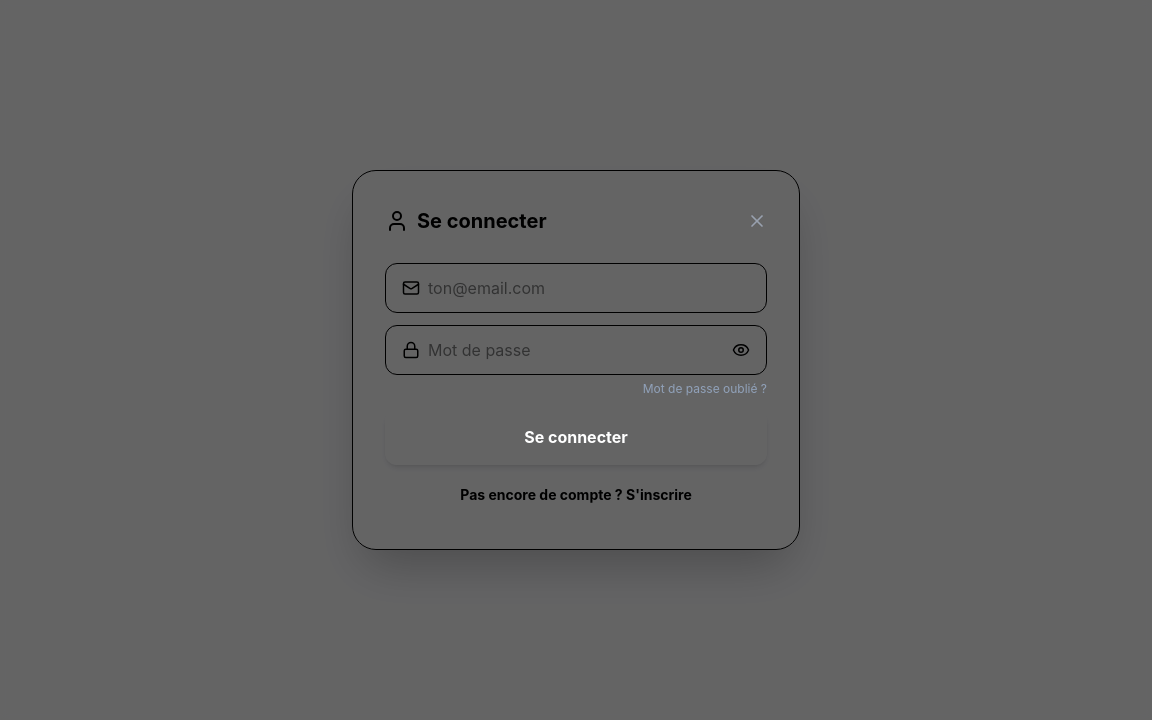
Test: AuthModal — bascule entre les modes › re-cliquer "Déjà un compte ? Se connecter" repasse en mode signin
Click the button "Pas encore de compte ? S'inscrire" at [576, 495], box [385,473,767,517]
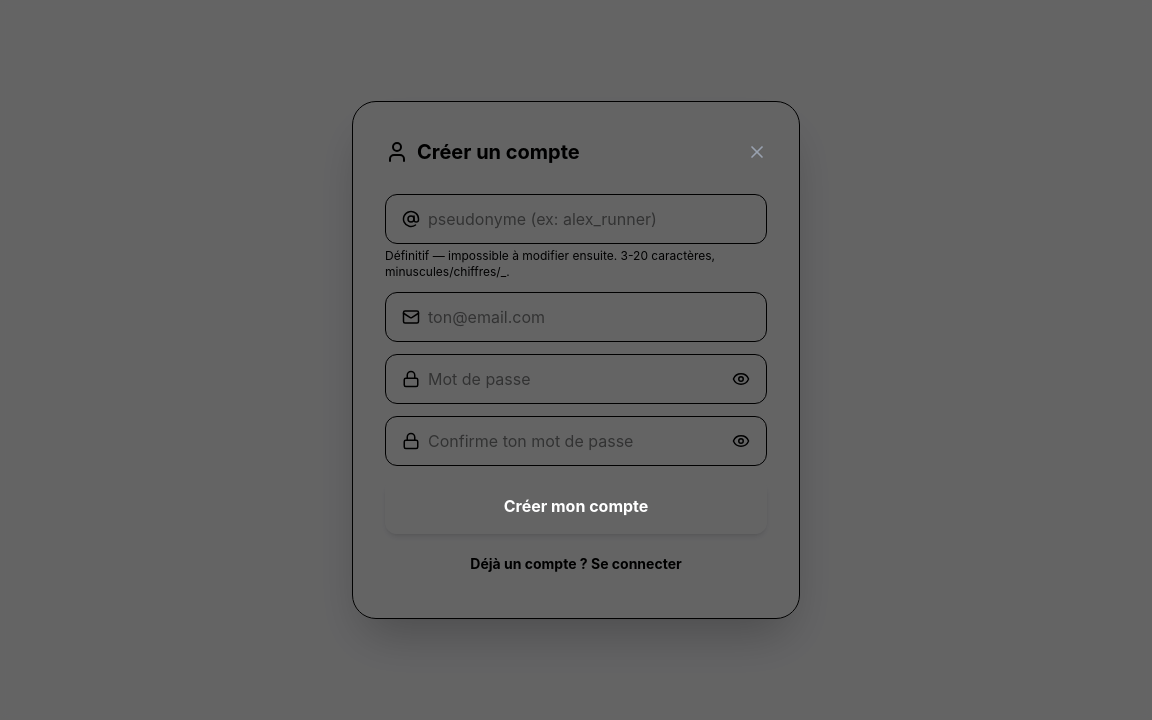
Click the button "Déjà un compte ? Se connecter" at [576, 564], box [385,542,767,586]
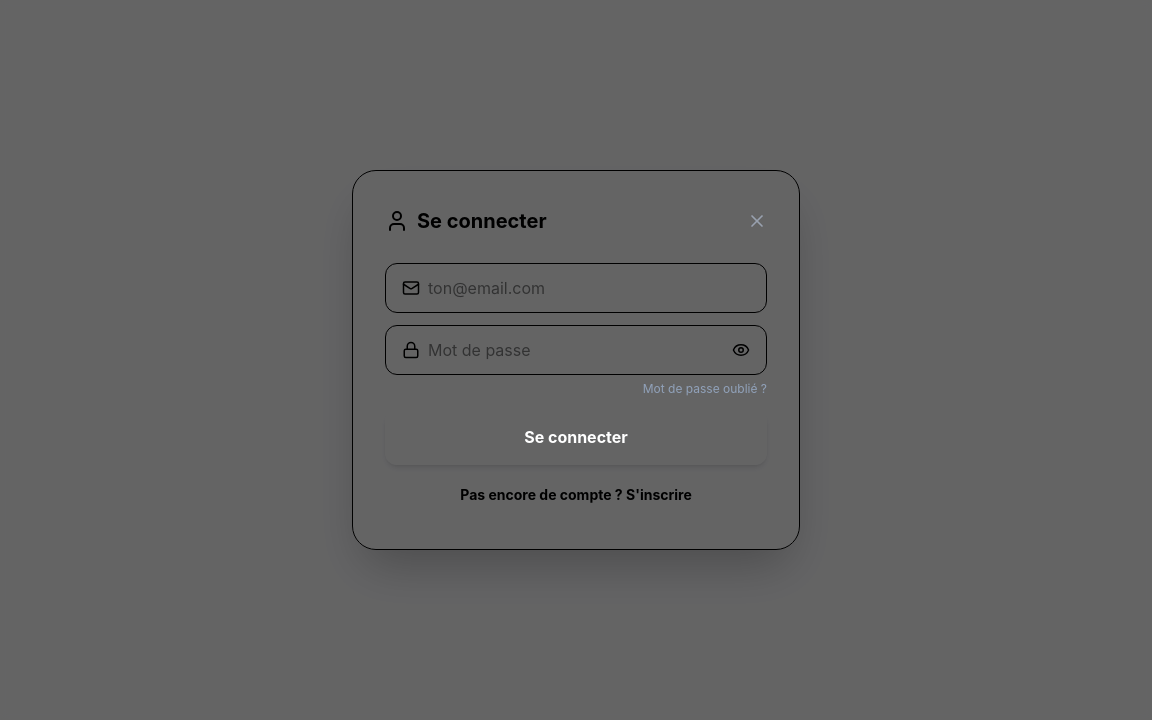
Expected: the field with placeholder "pseudonyme" is not shown
Result: the heading "Se connecter" is shown at [385,207,547,235]
